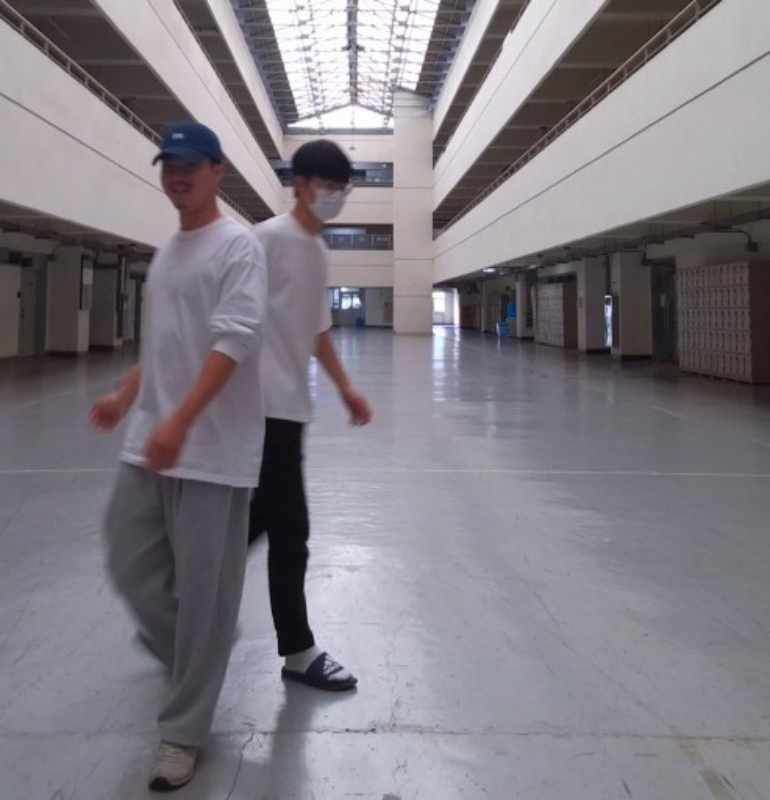person: (89, 120, 277, 792)
